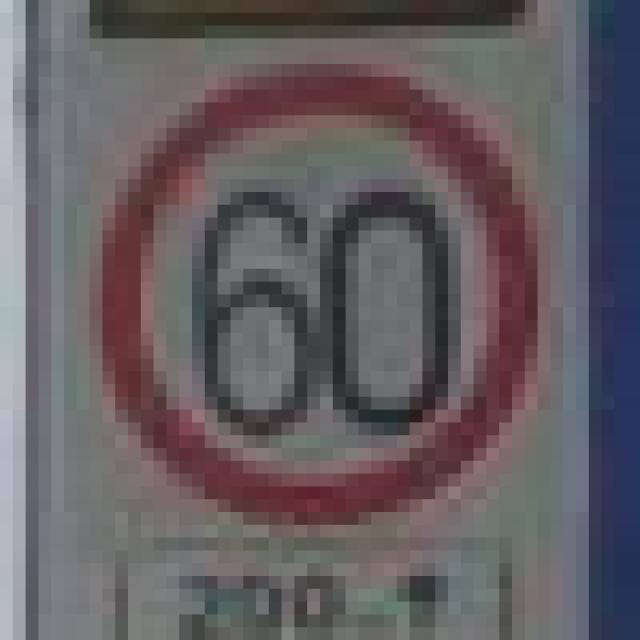speed_limit_40: (77, 51, 525, 512)
